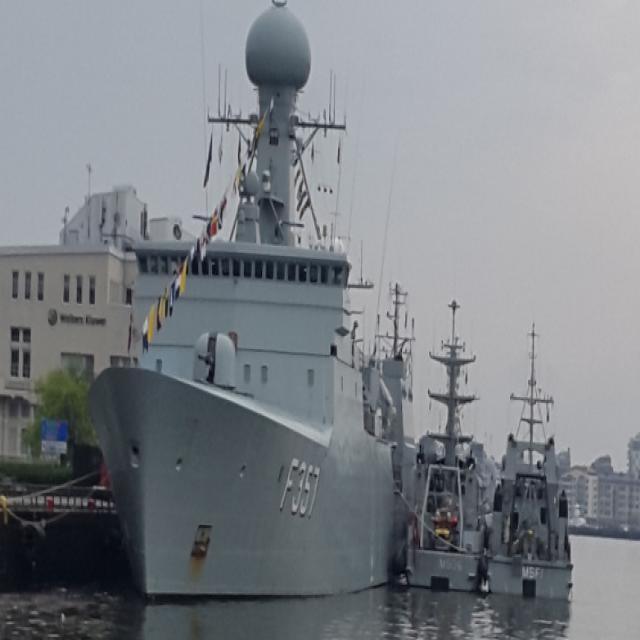Fragata: (79, 1, 416, 610)
